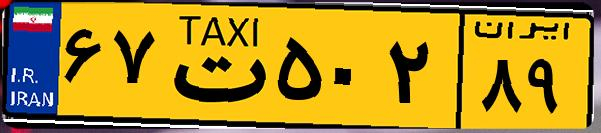0: (330, 28, 385, 110)
2: (385, 28, 445, 110)
5: (270, 28, 330, 110)
6: (57, 26, 110, 100)
7: (110, 28, 158, 98)
8: (475, 38, 525, 113)
9: (525, 38, 570, 115)
ت: (158, 12, 270, 120)
